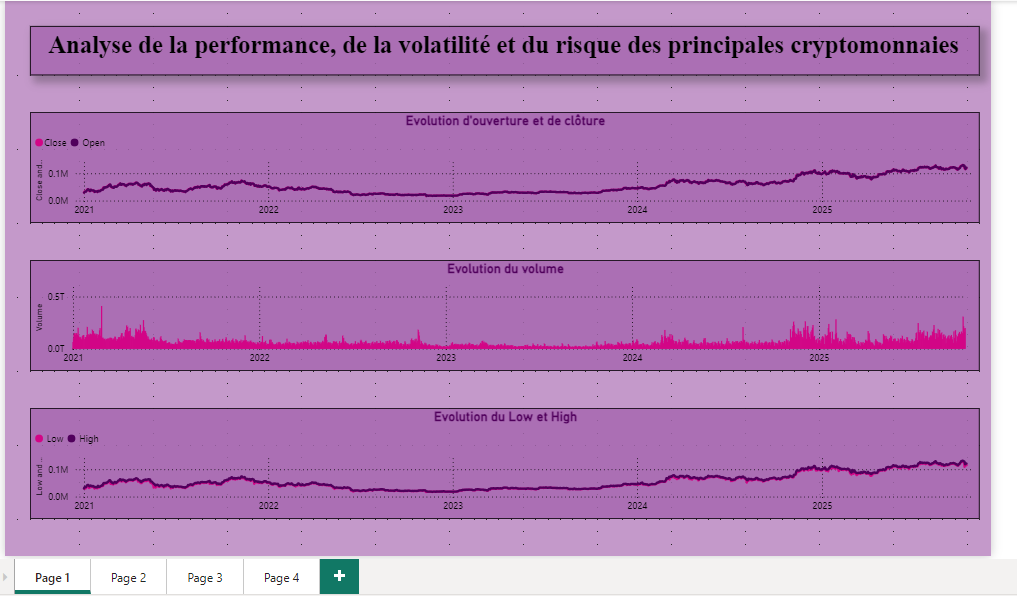

This screenshot's page, from the dashboard's own definition file:
{"tool":"powerbi","page":{"name":"Page 1","canvas":[1280,720],"ordinal":0},"visuals":[{"type":"textbox","box":[32,32,1232,64],"z":0},{"type":"lineChart","title":"Evolution d''ouverture et de clôture","fields":{"Category":["cryptos_yahoo_enriched_2021_2025.Date"],"Y":["Sum(cryptos_yahoo_enriched_2021_2025.Close)","Sum(cryptos_yahoo_enriched_2021_2025.Open)"]},"box":[32,144,1232,144],"z":1},{"type":"clusteredColumnChart","title":"Evolution du volume","fields":{"Category":["cryptos_yahoo_enriched_2021_2025.Date"],"Y":["Sum(cryptos_yahoo_enriched_2021_2025.Volume)"]},"box":[32,336,1232,144],"z":2},{"type":"lineChart","title":"Evolution du Low et  High ","fields":{"Y":["Sum(cryptos_yahoo_enriched_2021_2025.Low)","Sum(cryptos_yahoo_enriched_2021_2025.High)"],"Category":["cryptos_yahoo_enriched_2021_2025.Date"]},"box":[32,528,1232,144],"z":3}]}

Visuals, with their boxes in screenshot pixels (x1, y1, x2, y2):
textbox: <region>25, 20, 990, 70</region>
"Evolution d''ouverture et de clôture" lineChart: <region>25, 108, 990, 220</region>
"Evolution du volume" clusteredColumnChart: <region>25, 258, 990, 371</region>
"Evolution du Low et  High " lineChart: <region>25, 408, 990, 521</region>
